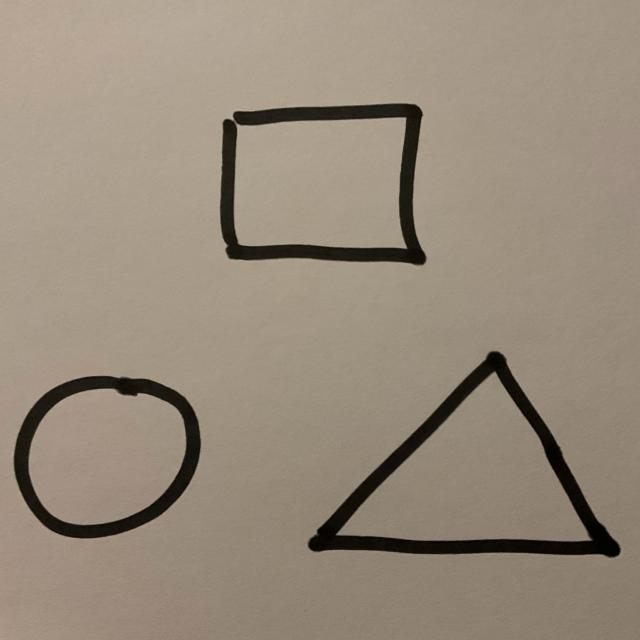Dreieck: (308, 352, 620, 558)
Kreis: (13, 376, 203, 542)
Quadrat: (218, 104, 427, 267)
